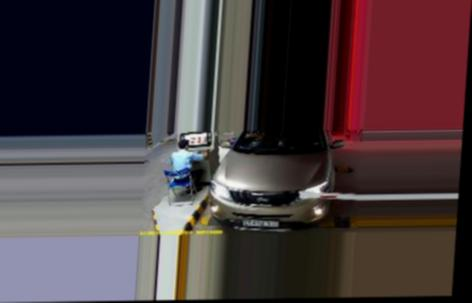License_Plate: (242, 217, 280, 229)
